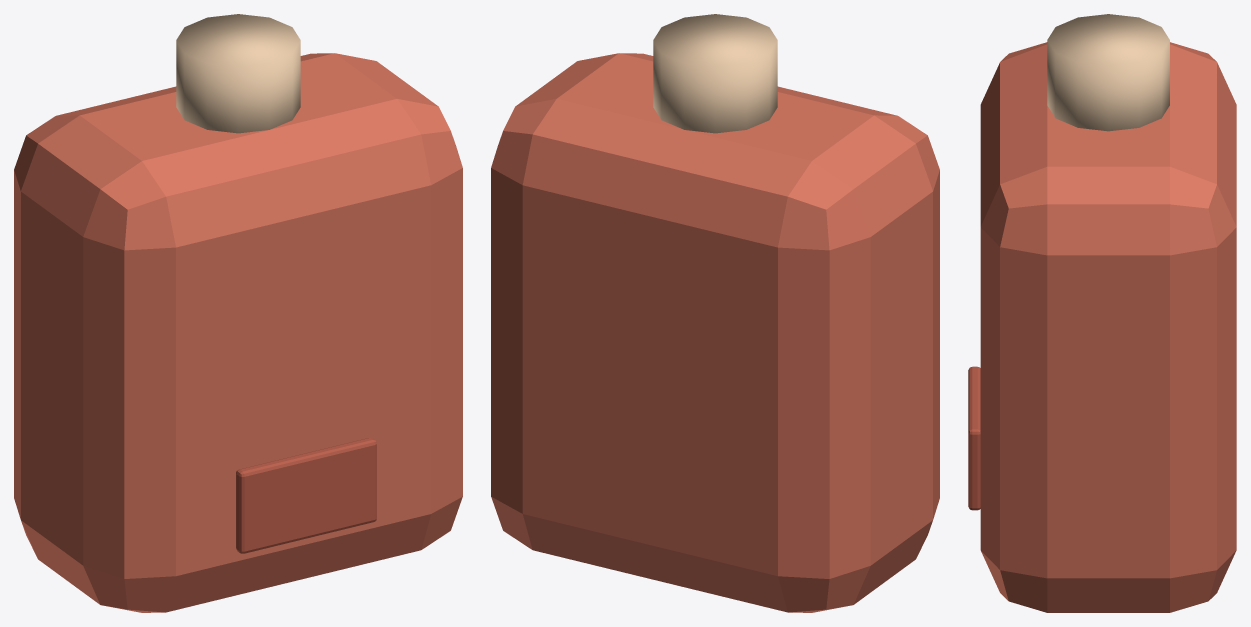
Rendered from fig_torso_tee.glb.
The picture shows the model from 3 angles, left to right: view 1: azimuth 30°, elevation 25°; view 2: azimuth 150°, elevation 25°; view 3: azimuth 270°, elevation 25°; orthographic projection.
Parts seen in each view (by area): view 1: cloth_body, skin_neck, cloth2_print; view 2: cloth_body, skin_neck; view 3: cloth_body, skin_neck, cloth2_print.
Boxes of the visible parts, <box> form: cloth_body: <box>14,53,462,612</box>; skin_neck: <box>176,14,300,133</box>; cloth2_print: <box>236,438,376,553</box>; cloth_body: <box>491,53,939,612</box>; skin_neck: <box>653,14,777,133</box>; cloth_body: <box>980,42,1236,612</box>; skin_neck: <box>1047,14,1169,131</box>; cloth2_print: <box>968,366,980,510</box>.
Size of the model in its own units: 0.38 by 0.505 by 0.241.
